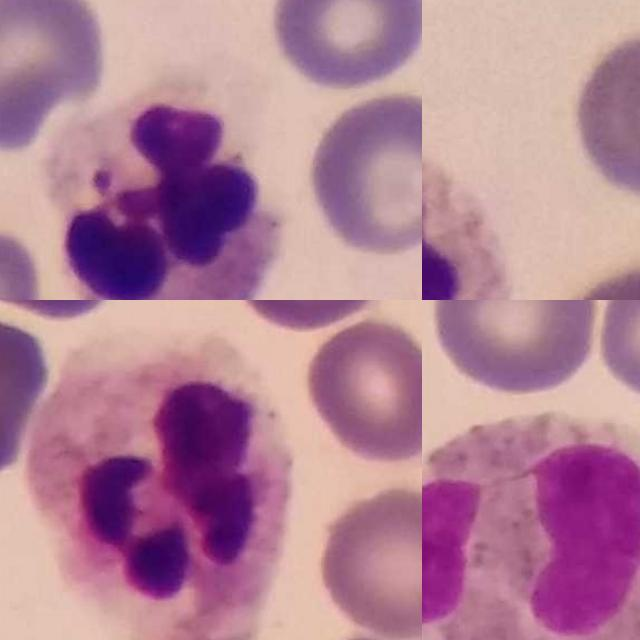Eosinophil: (422, 405, 640, 640)
Neutrophil: (28, 327, 296, 640), (54, 82, 291, 300), (422, 134, 509, 300)
